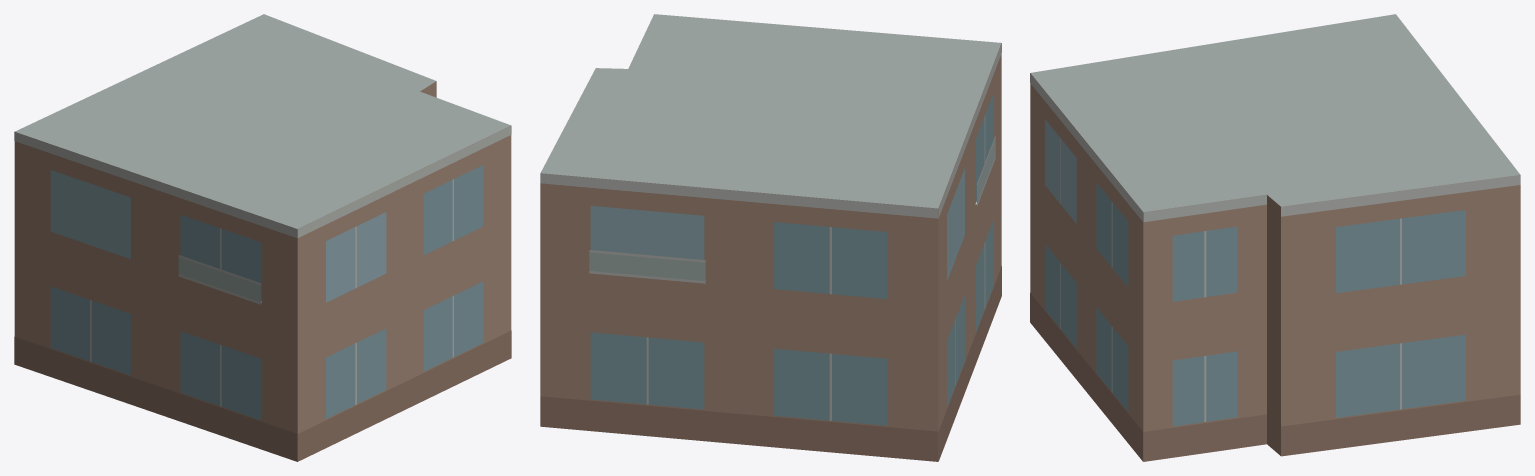
File: survey-upis-32887780.glb
3 views of the same model, side by side, from view 1: azimuth 30°, elevation 25°; view 2: azimuth 150°, elevation 25°; view 3: azimuth 270°, elevation 25° (orthographic). The views are drawn at different scales.
Visible parts, largest first — view 1: survey-upis-32887780.tmp; view 2: survey-upis-32887780.tmp; view 3: survey-upis-32887780.tmp.
Boxes of the visible parts, x1,y1,x2,y2 form: survey-upis-32887780.tmp: (14, 14, 511, 461); survey-upis-32887780.tmp: (540, 14, 1001, 461); survey-upis-32887780.tmp: (1030, 14, 1520, 461).
Size of the model in its own units: 10.4 by 6.1 by 10.88.
